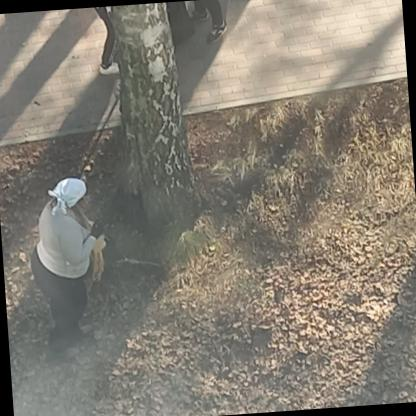Human Body: (21, 174, 115, 356)
